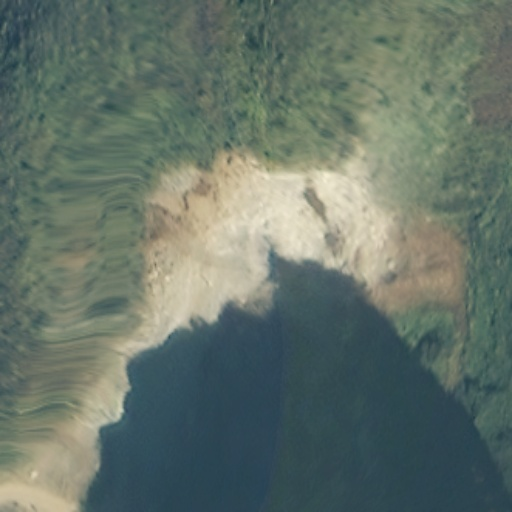landslide: (140, 148, 472, 317)
